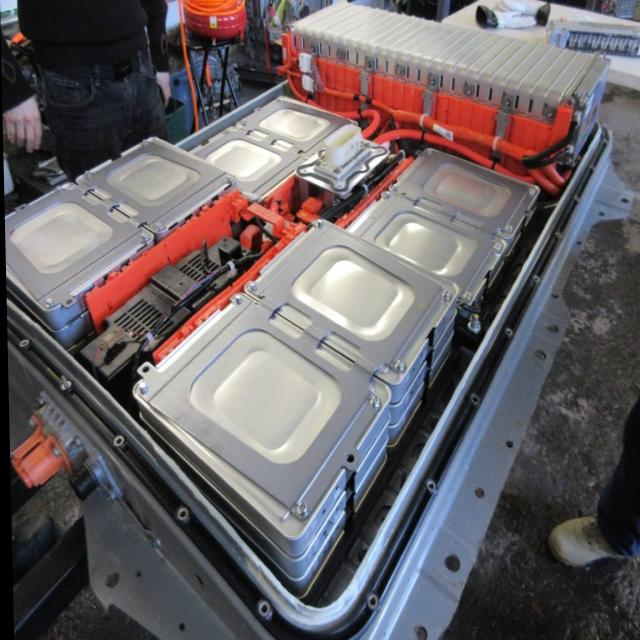Battery Module: (160, 151, 521, 522), (7, 98, 341, 291), (300, 7, 575, 94)
Bolt: (289, 497, 310, 518), (134, 380, 149, 404), (230, 290, 244, 314), (500, 216, 516, 237), (246, 274, 260, 297), (311, 214, 326, 234), (524, 184, 541, 201), (365, 392, 379, 412), (458, 286, 475, 302), (488, 238, 504, 255), (420, 144, 435, 162), (390, 356, 403, 376), (437, 286, 450, 306), (41, 289, 51, 312), (50, 184, 66, 198), (138, 228, 151, 245), (379, 190, 391, 208), (222, 171, 233, 186), (82, 167, 92, 183), (138, 136, 150, 148), (274, 92, 285, 104), (390, 182, 399, 196), (154, 220, 163, 232)
Bus-bar: (83, 175, 302, 363)
Cable: (278, 65, 532, 168)
Nut: (54, 373, 70, 398), (572, 96, 586, 108)
